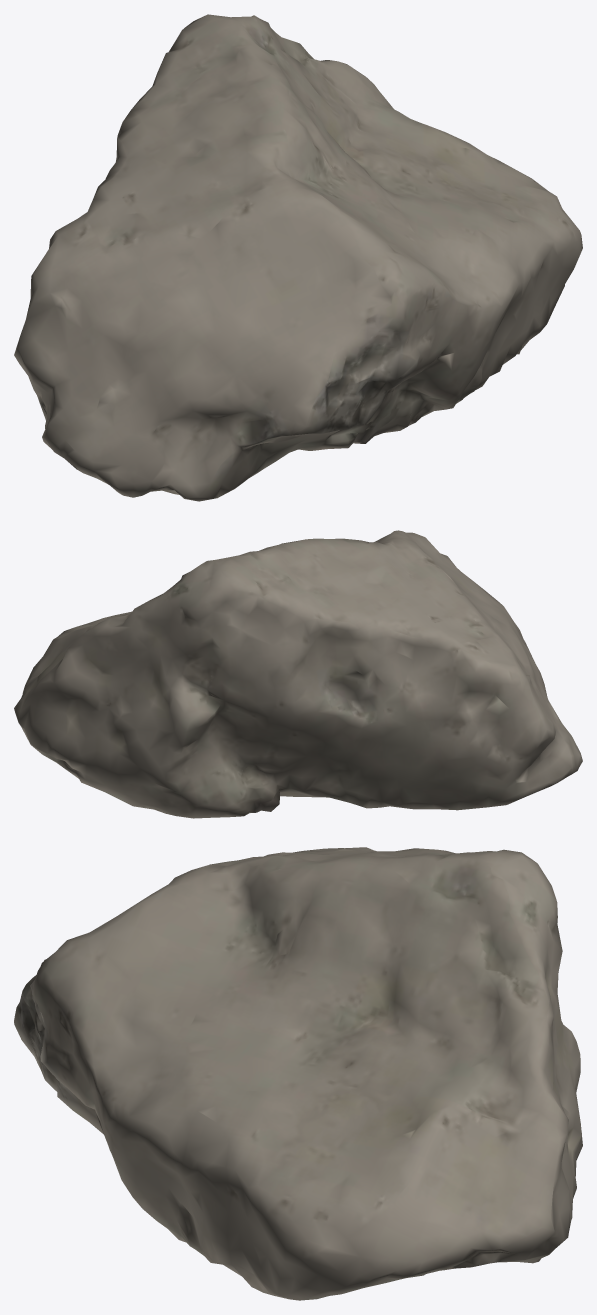
File: rock_moon_b.glb
3 views of the same model, one above another, from view 1: azimuth 30°, elevation 25°; view 2: azimuth 150°, elevation 25°; view 3: azimuth 270°, elevation 25° (orthographic). The views are drawn at different scales.
Visible parts, largest first — view 1: moon_rock_03_LOD0; view 2: moon_rock_03_LOD0; view 3: moon_rock_03_LOD0.
Part boxes in pixels (x1,y1,x2,y2): moon_rock_03_LOD0: (14, 14, 582, 501); moon_rock_03_LOD0: (14, 530, 582, 818); moon_rock_03_LOD0: (14, 847, 582, 1300).
Bounding box in the file's own units: 0.112 × 0.0582 × 0.0861.
Materials: 1 (1 with a texture image).
